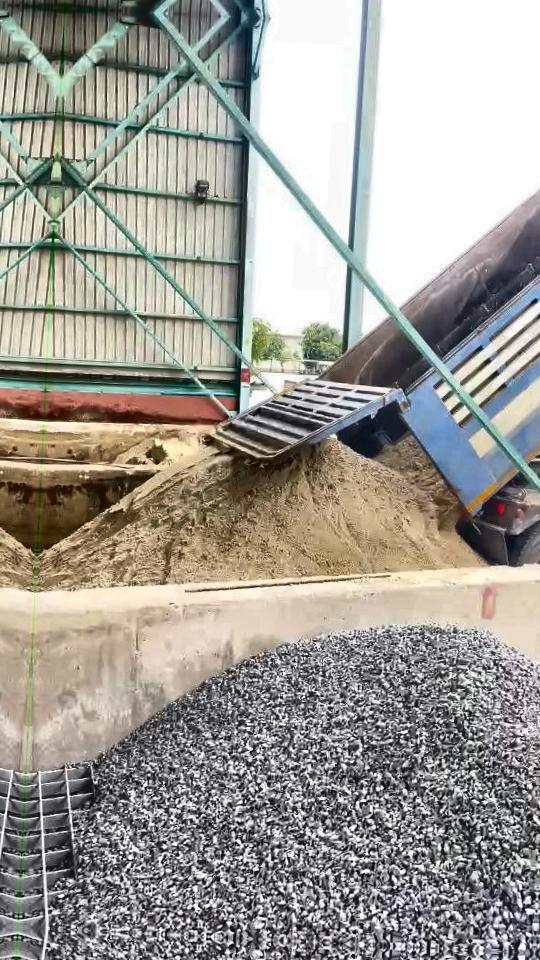gravel: (52, 626, 540, 951)
sand: (39, 441, 480, 589), (377, 437, 461, 527), (116, 432, 201, 466)
